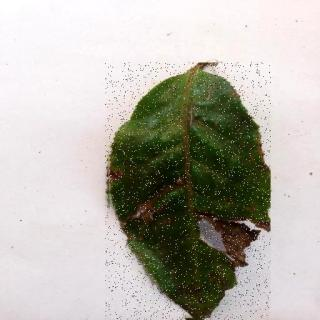Algal Leaf: (106, 63, 272, 320)
